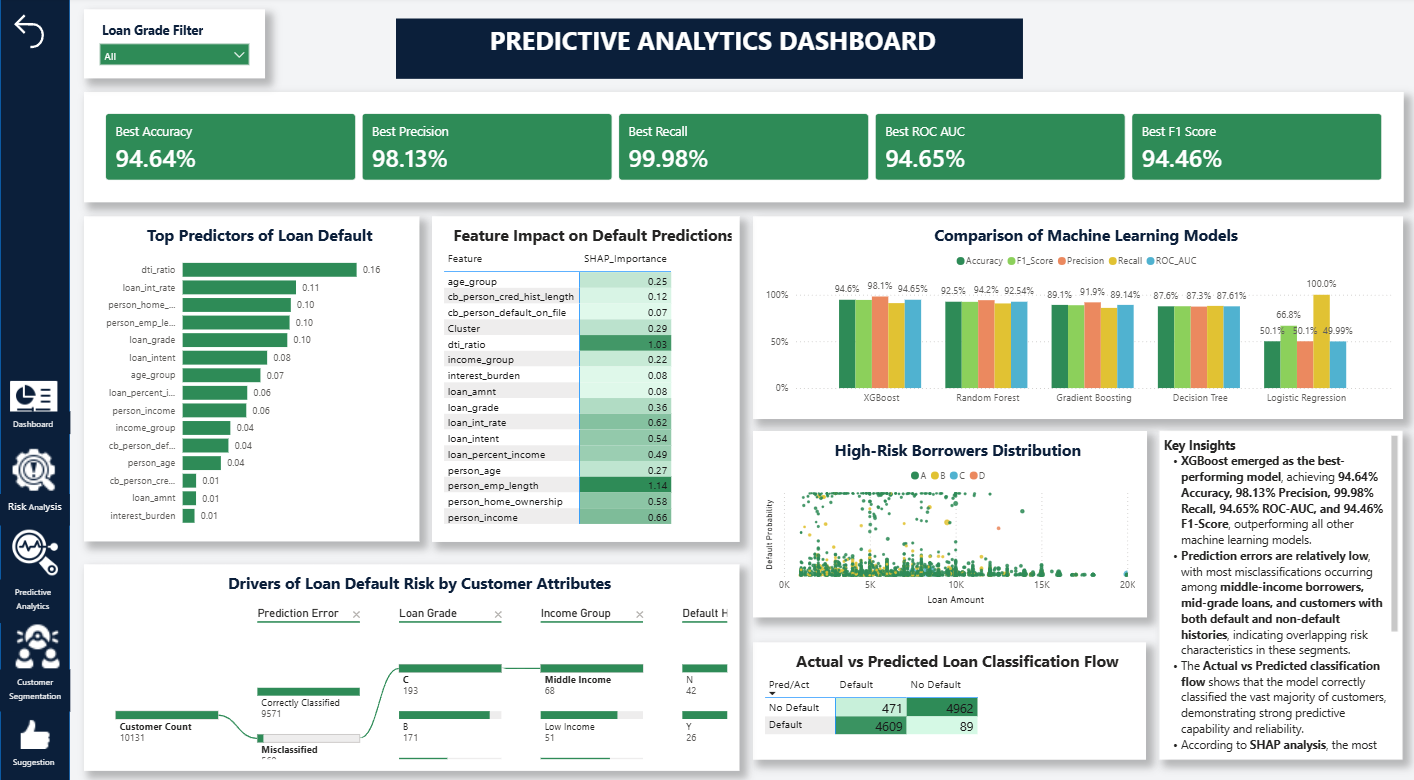

The page's visual inventory and layout, read from the dashboard file:
{"tool":"powerbi","page":{"name":"Predictive Analytics Dashboard","canvas":[1800,1000],"ordinal":3},"visuals":[{"type":"clusteredColumnChart","title":"Comparison of Machine Learning Models","fields":{"Category":["model_comparison.Model"],"Y":["Sum(model_comparison.Accuracy)","Sum(model_comparison.F1_Score)","Sum(model_comparison.Precision)","Sum(model_comparison.Recall)","Sum(model_comparison.ROC_AUC)"]},"box":[956.1,281.1,826.2,257.7],"z":0},{"type":"barChart","title":"Top Predictors of Loan Default","fields":{"Category":["feature_importance.Feature"],"Y":["Sum(feature_importance.Importance)"]},"box":[106.6,279.8,426.3,413],"z":1000},{"type":"textbox","box":[502.5,27.7,796.4,76.7],"z":2000},{"type":"shape","box":[0,0,88.8,1001.4],"z":3000},{"type":"cardVisual","fields":{"Data":["Measure.Best Accuracy","Measure.Best Precision","Measure.Best Recall","Measure.Best ROC AUC","Measure.Best F1 Score"]},"box":[106.6,122.1,1676.4,139.9],"z":4000},{"type":"pivotTable","title":"Actual vs Predicted Loan Classification Flow","fields":{"Columns":["confusion_matrix.Actual"],"Rows":["confusion_matrix.Predicted"],"Values":["Sum(confusion_matrix.Count)"]},"box":[956.8,821.5,499.4,148.7],"z":5000},{"type":"pivotTable","title":"Feature Impact on Default Predictions","fields":{"Rows":["shap_feature_importance.Feature"],"Values":["Sum(shap_feature_importance.SHAP_Importance)"]},"box":[548.9,280.2,390.7,413.6],"z":6000},{"type":"decompositionTreeVisual","title":"Drivers of Loan Default Risk by Customer Attributes","fields":{"ExplainBy":["credit_risk_data.Prediction Error","credit_risk_data.Loan Grade","credit_risk_data.Income Group","credit_risk_data.Default History","credit_risk_data.Loan Purpose"],"Analyze":["Measure.Customer Count"]},"box":[106.6,721.6,832.7,262],"z":7000},{"type":"scatterChart","title":"High-Risk Borrowers Distribution","fields":{"Y":["credit_risk_data.Default_Probability"],"X":["credit_risk_data.loan_amnt"],"Size":["Sum(credit_risk_data.person_income)"],"Series":["credit_risk_data.Loan Grade"]},"box":[956.1,553.6,500.4,236.4],"z":8000},{"type":"slicer","fields":{"Values":["credit_risk_data.Loan Grade"]},"box":[106.5,17,230,87.3],"z":9000},{"type":"textbox","box":[1473.5,553.6,308.8,417.4],"z":10000},{"type":"actionButton","box":[9.5,17.2,80.1,55.3],"z":11000},{"type":"image","box":[9.5,480.3,66.7,62.9],"z":12000},{"type":"image","box":[9.5,571.8,66.7,61],"z":13000},{"type":"image","box":[5.7,672.8,78.1,68.6],"z":14000},{"type":"image","box":[5.7,916.8,78.1,49.6],"z":15000},{"type":"image","box":[11.4,796.7,72.4,59.1],"z":16000},{"type":"textbox","box":[11.4,528,78.1,28.6],"z":17000},{"type":"textbox","box":[0,632.8,88.8,40],"z":18000},{"type":"textbox","box":[0,741.4,83.9,55.3],"z":19000},{"type":"textbox","box":[0,855.8,89.6,53.4],"z":20000},{"type":"textbox","box":[3.8,956.2,78.1,43.8],"z":21000}]}

Visuals, with their boxes on the page's 1800x1000 design canvas (x1, y1, x2, y2). These are canvas units, not pixel positions in the 1414x780 screenshot, which may show the page scaled, cropped or inside an application window:
"Comparison of Machine Learning Models" clusteredColumnChart: l=956, t=281, r=1782, b=539
"Top Predictors of Loan Default" barChart: l=107, t=280, r=533, b=693
textbox: l=502, t=28, r=1299, b=104
shape: l=0, t=0, r=89, b=1001
cardVisual - Measure.Best Accuracy x Measure.Best Precision: l=107, t=122, r=1783, b=262
"Actual vs Predicted Loan Classification Flow" pivotTable: l=957, t=822, r=1456, b=970
"Feature Impact on Default Predictions" pivotTable: l=549, t=280, r=940, b=694
"Drivers of Loan Default Risk by Customer Attributes" decompositionTreeVisual: l=107, t=722, r=939, b=984
"High-Risk Borrowers Distribution" scatterChart: l=956, t=554, r=1456, b=790
slicer - credit_risk_data.Loan Grade: l=106, t=17, r=336, b=104
textbox: l=1474, t=554, r=1782, b=971
actionButton: l=10, t=17, r=90, b=72
image: l=10, t=480, r=76, b=543
image: l=10, t=572, r=76, b=633
image: l=6, t=673, r=84, b=741
image: l=6, t=917, r=84, b=966
image: l=11, t=797, r=84, b=856
textbox: l=11, t=528, r=90, b=557
textbox: l=0, t=633, r=89, b=673
textbox: l=0, t=741, r=84, b=797
textbox: l=0, t=856, r=90, b=909
textbox: l=4, t=956, r=82, b=1000
